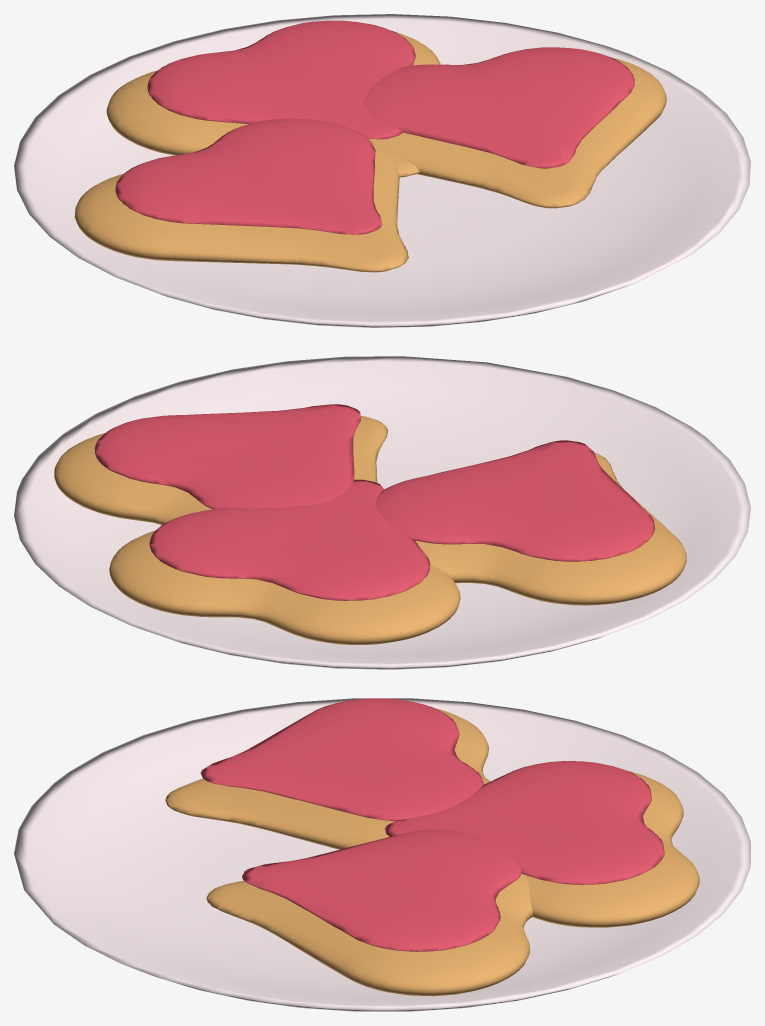
The model's file is comida_galletas_corazon.glb.
3 views of the same model, one above another, from view 1: azimuth 30°, elevation 25°; view 2: azimuth 150°, elevation 25°; view 3: azimuth 270°, elevation 25° (orthographic).
Parts seen in each view (by area): view 1: plato.011, glaseado 0.001, glaseado 1.001, glaseado 2.001, galleta 0.001, galleta 1.001, galleta 2.001; view 2: plato.011, glaseado 0.001, glaseado 1.001, glaseado 2.001, galleta 2.001, galleta 0.001, galleta 1.001; view 3: plato.011, glaseado 0.001, glaseado 1.001, glaseado 2.001, galleta 1.001, galleta 2.001, galleta 0.001.
Boxes of the visible parts, box(x1,y1,x2,y2) form: plato.011: box(14, 14, 750, 327); glaseado 0.001: box(115, 118, 381, 234); glaseado 1.001: box(363, 47, 634, 168); glaseado 2.001: box(147, 20, 415, 139); galleta 0.001: box(74, 141, 408, 272); galleta 1.001: box(368, 57, 666, 208); galleta 2.001: box(106, 31, 440, 177); plato.011: box(14, 356, 750, 669); glaseado 0.001: box(375, 440, 654, 561); glaseado 1.001: box(94, 404, 360, 509); glaseado 2.001: box(149, 479, 430, 600); galleta 2.001: box(109, 530, 460, 644); galleta 0.001: box(415, 452, 686, 605); galleta 1.001: box(54, 416, 388, 524); plato.011: box(14, 698, 750, 1011); glaseado 0.001: box(200, 698, 483, 821); glaseado 1.001: box(242, 829, 521, 951); glaseado 2.001: box(385, 761, 664, 884); galleta 1.001: box(206, 874, 532, 996); galleta 2.001: box(526, 770, 699, 927); galleta 0.001: box(165, 708, 490, 849).
Size of the model in its own units: 0.3571 by 0.046 by 0.3571.
